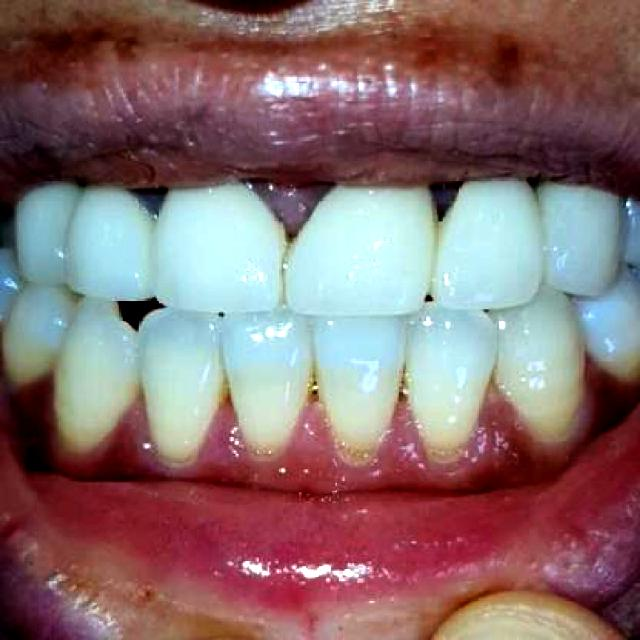Plaque: (8, 359, 627, 492), (246, 181, 335, 242), (426, 180, 465, 226), (125, 188, 169, 221)
